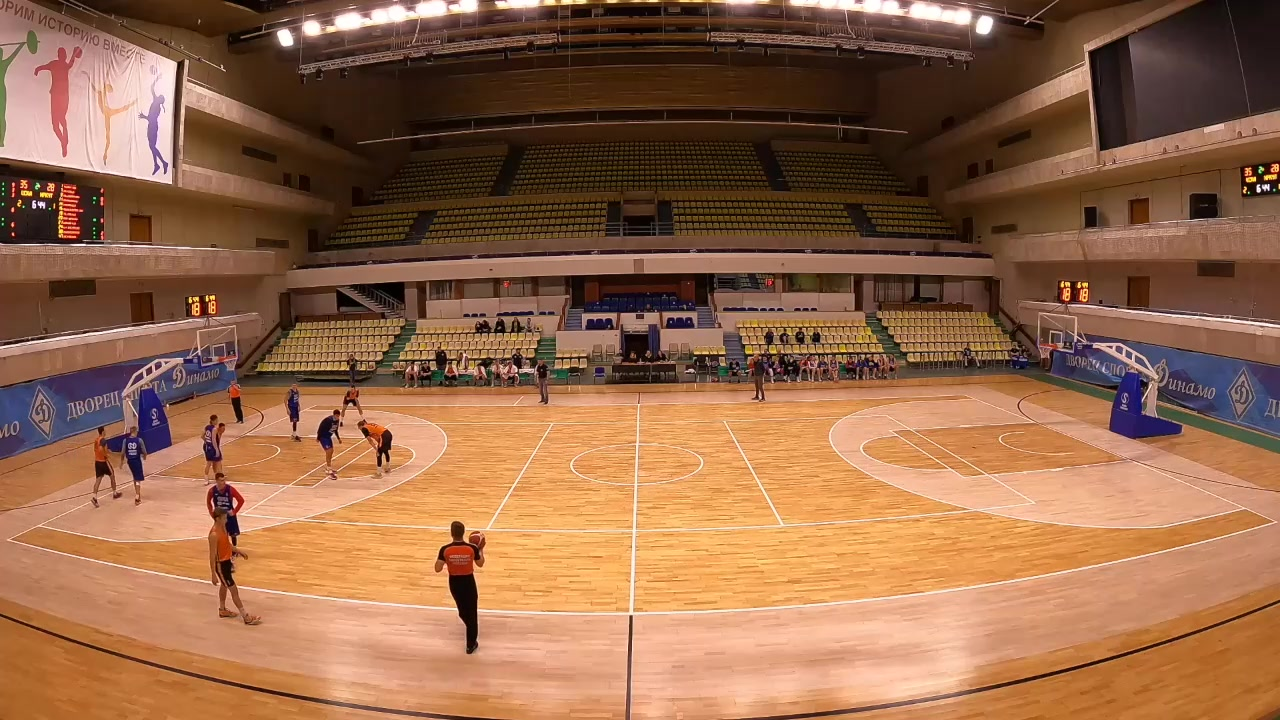basketball: (287, 485, 330, 515)
